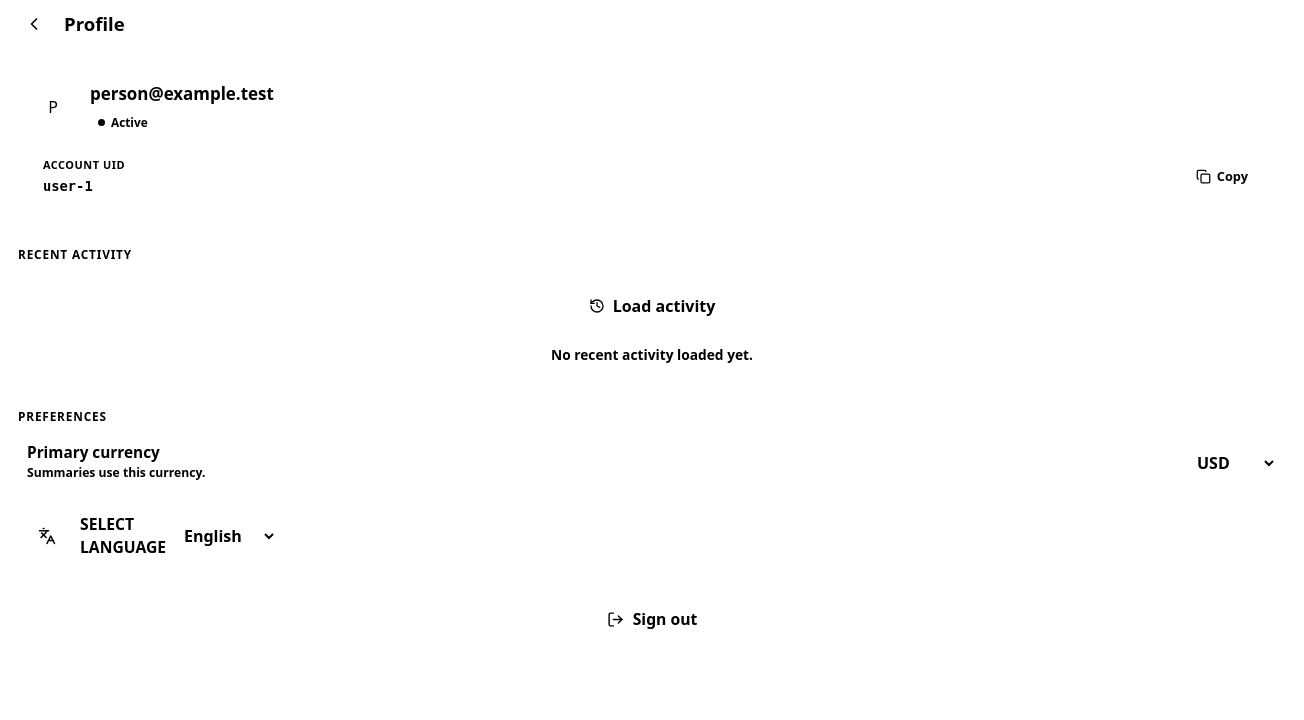
Test: MeView › copies the account UID and confirms with an accessible status
The image size is (1304, 720).
Click the button with aria-label "Copy account UID" at (1222, 177), box [1183, 159, 1261, 195]
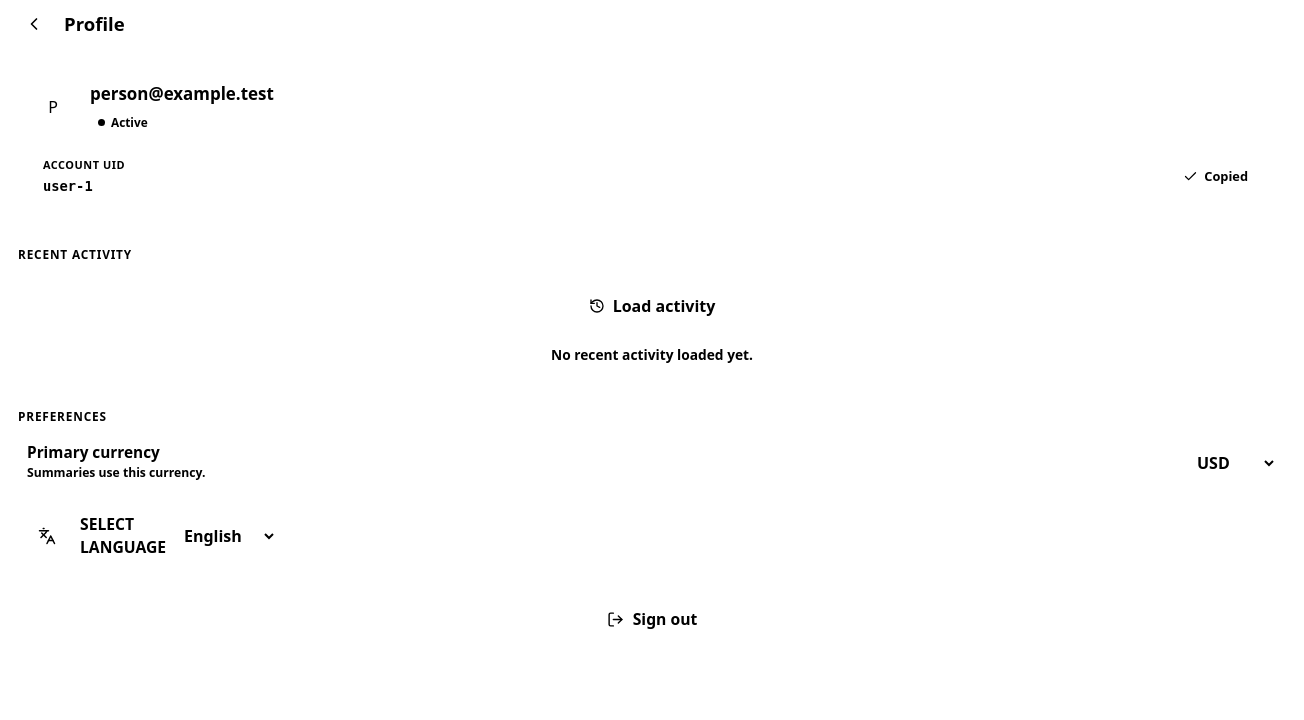
expect the text "Copied" is shown: met, box [1204, 167, 1248, 186]
